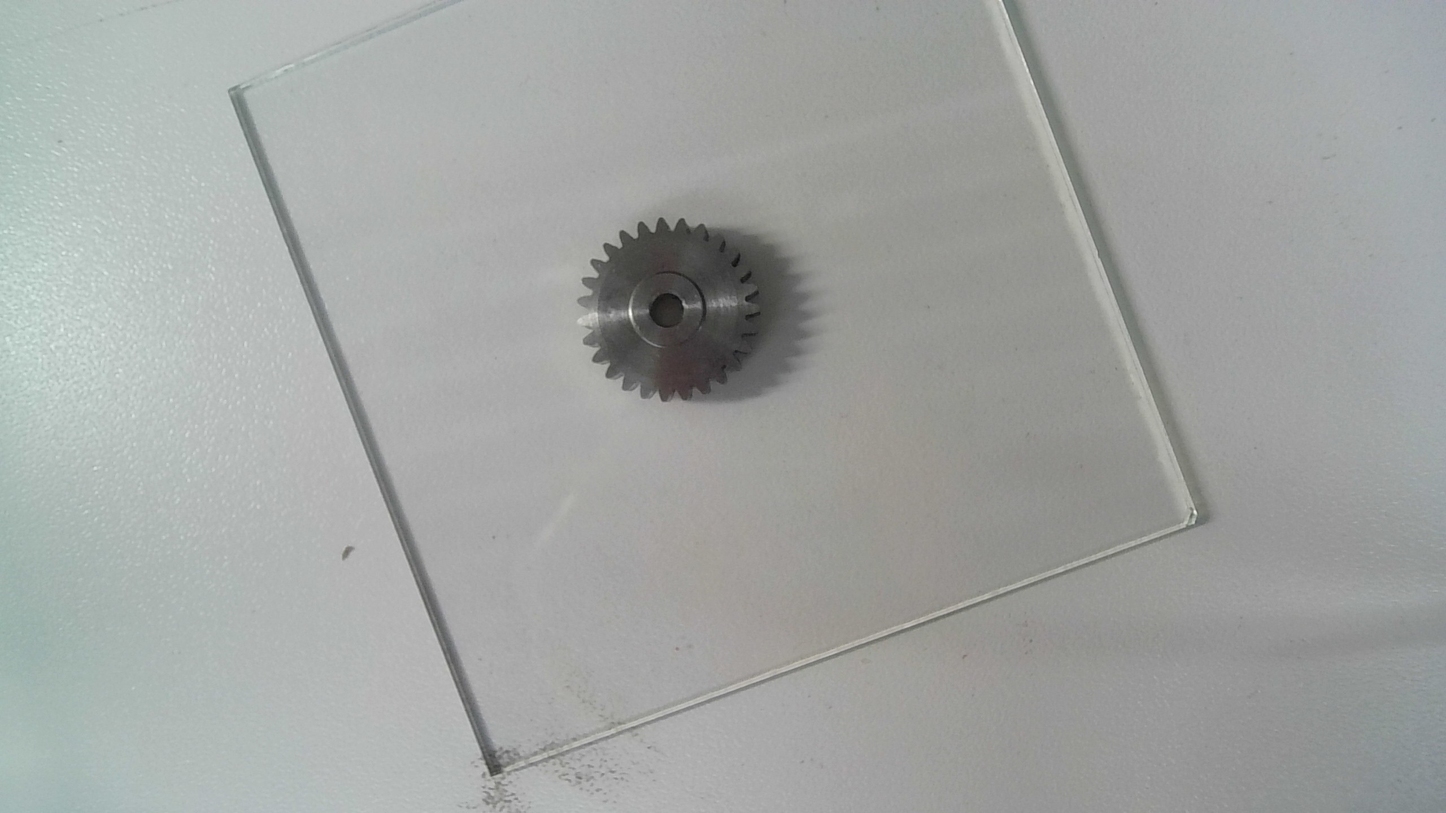gear: (574, 216, 764, 407)
